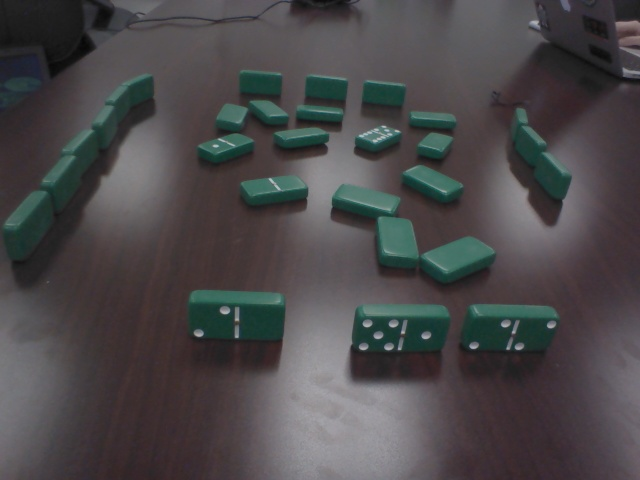A: (420, 231, 500, 285), (395, 157, 467, 207), (369, 214, 424, 274), (329, 177, 400, 217), (270, 122, 333, 156), (247, 94, 292, 128), (208, 98, 251, 133), (413, 127, 457, 160), (402, 107, 463, 130), (295, 100, 350, 124)
B: (240, 170, 314, 215), (193, 130, 258, 167), (350, 119, 407, 154)
C: (2, 188, 59, 260), (34, 152, 85, 207), (58, 126, 103, 166), (90, 102, 122, 149), (121, 68, 159, 107), (103, 82, 135, 122)
D: (527, 150, 573, 204), (509, 125, 550, 166), (505, 107, 532, 143)
E: (184, 289, 291, 347), (341, 300, 452, 355), (459, 304, 562, 356)
F: (236, 65, 284, 98), (302, 74, 349, 103), (361, 78, 405, 107)
